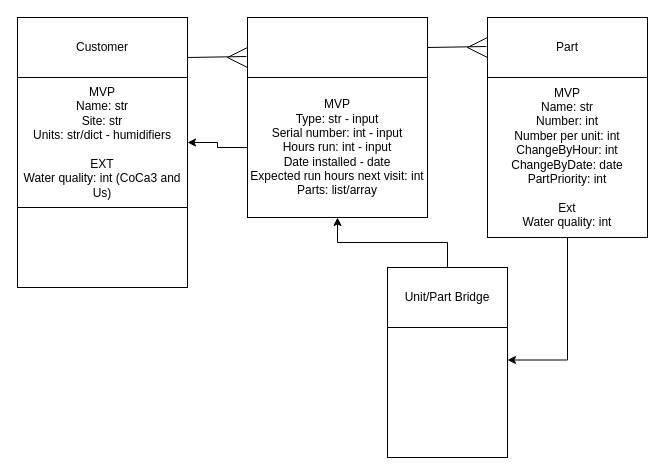
The diagram is 665 pixels wide and 475 high, and some of its shapes have lost their labels. Each missing label, with the centre of its shape:
add_hum_to_customer: the point at 102,247
Part_ID: sql_id PartLastChangedHR PartLastChangeDate: the point at 447,392
Unit: the point at 337,47
